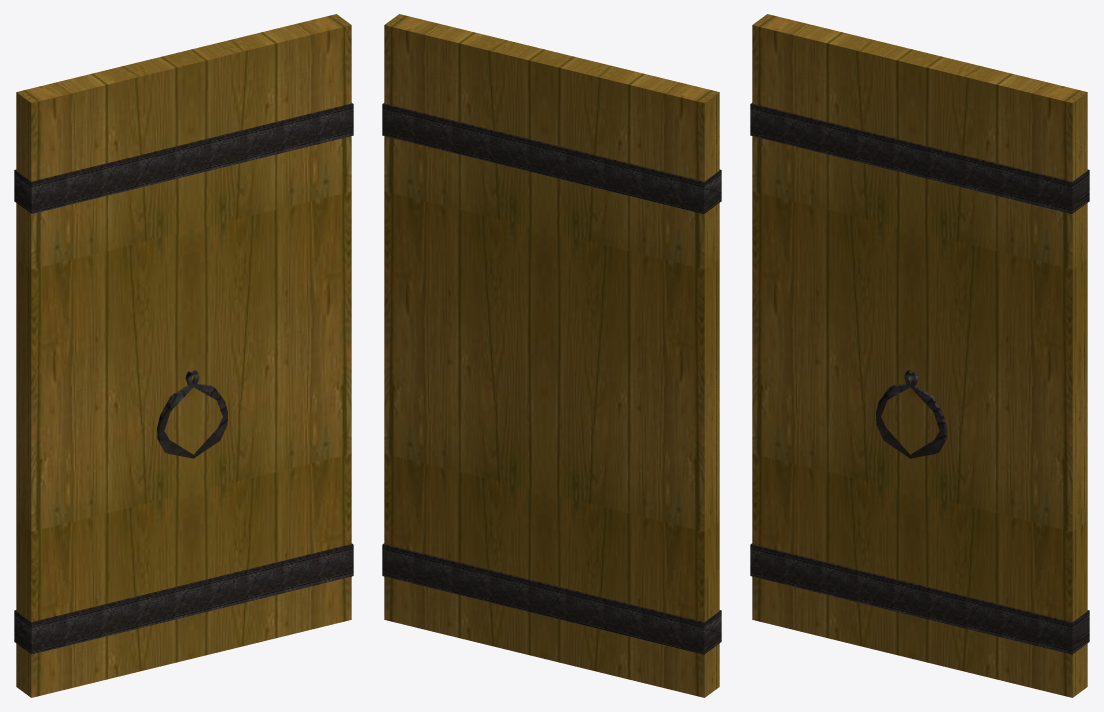
Rendered from YellowDoor.fbx.
The picture shows the model from 3 angles, left to right: view 1: azimuth 30°, elevation 25°; view 2: azimuth 150°, elevation 25°; view 3: azimuth 330°, elevation 25°; orthographic projection.
Visible parts, largest first — view 1: Door; view 2: Door; view 3: Door.
Boxes of the visible parts, box(x1,y1,x2,y2) form: Door: box(14, 14, 353, 697); Door: box(382, 14, 721, 697); Door: box(750, 14, 1089, 697).
Size of the model in its own units: 1032 by 1821 by 102.
4 materials, 4 textured.
